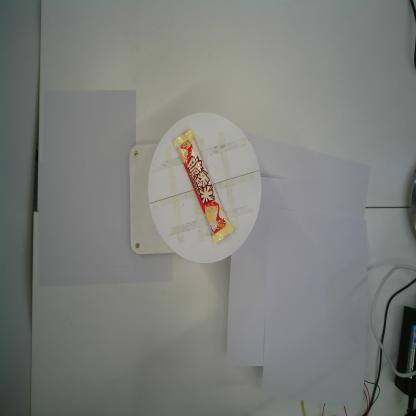Chocolate: (172, 128, 234, 244)
